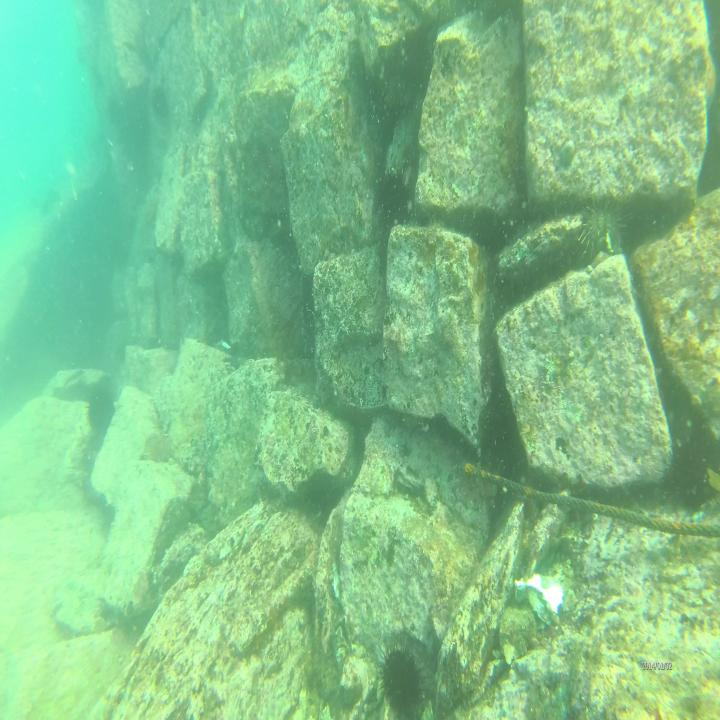echinus: (378, 636, 426, 720), (580, 194, 625, 258), (378, 165, 413, 231), (84, 384, 116, 439)
